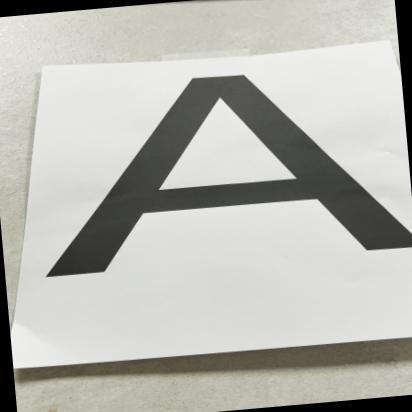seat: (35, 48, 412, 332)
